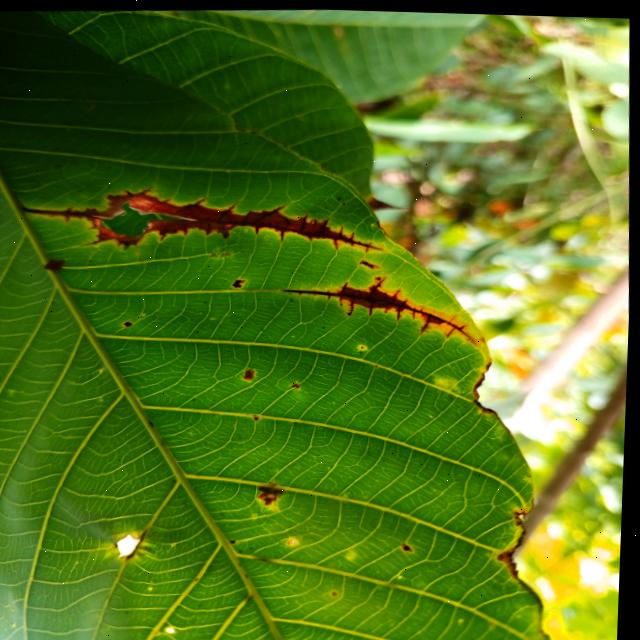Corynespora: (19, 176, 385, 263), (281, 269, 480, 349)
